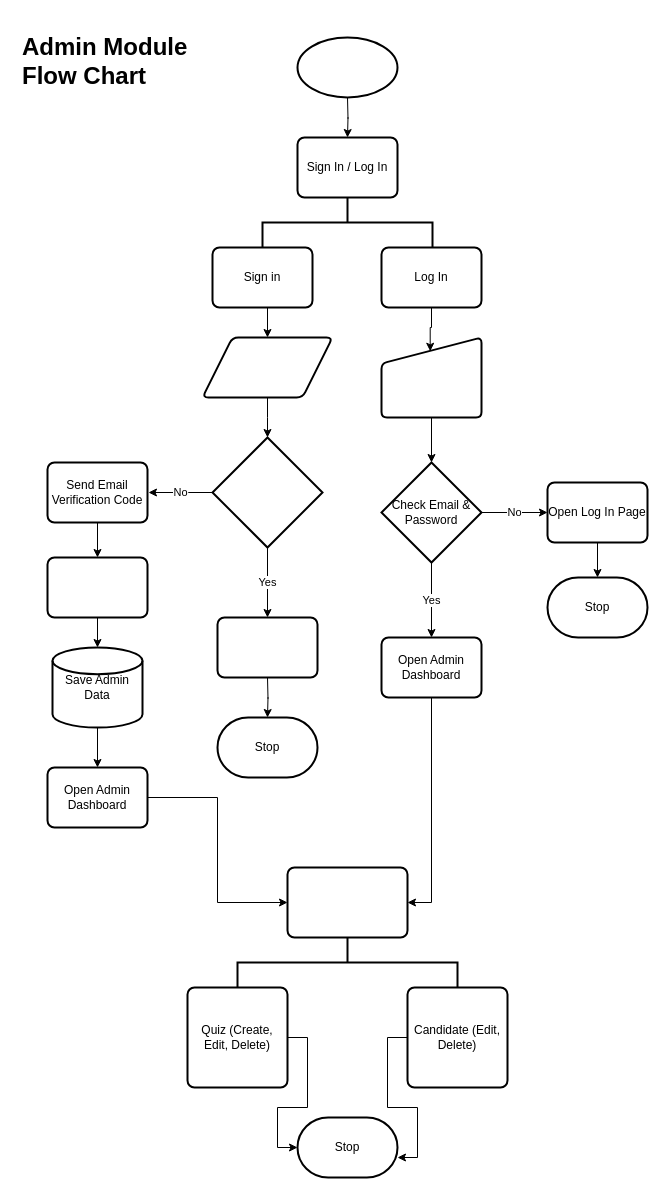
Some shapes in this 665 by 1195 pixel diagram are drawn without their labels. The shapes that lost their labels are listed below. From the top down, each one's box as (x1, y1, x2, y2) in pixels, then its label:
(296, 36, 398, 98): Staart
(201, 336, 333, 398): Name, Email, Password
(380, 336, 482, 418): Email and Password
(211, 436, 323, 548): Check If Email Exists
(46, 556, 148, 618): Verify Email with OTP
(216, 616, 318, 678): Open Registration Page
(286, 866, 408, 938): Admin Dashboar
